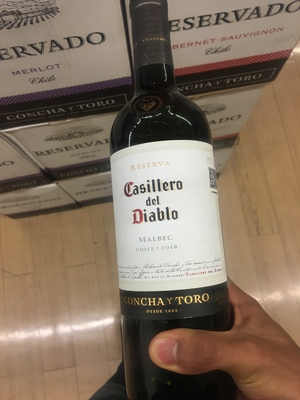casillero del diablo malbec: (90, 16, 247, 400)
